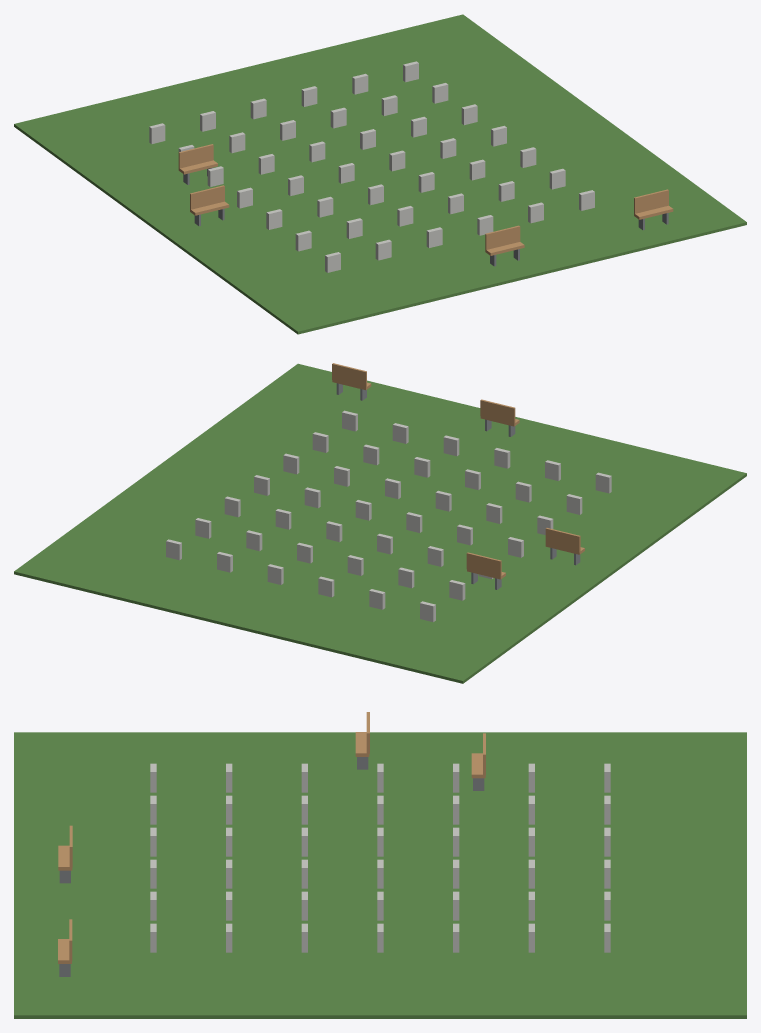
File: Park_012.glb
The picture shows the model from 3 angles, top to bottom: view 1: azimuth 30°, elevation 25°; view 2: azimuth 150°, elevation 25°; view 3: azimuth 270°, elevation 25°; orthographic projection. The views are drawn at different scales.
Parts seen in each view (by area): view 1: Park_012; view 2: Park_012; view 3: Park_012.
Boxes of the visible parts, x1,y1,x2,y2 form: Park_012: [14, 14, 746, 334]; Park_012: [14, 363, 746, 683]; Park_012: [14, 712, 746, 1018].
Bounding box in the file's own units: 26.54 × 1.86 × 29.06.
